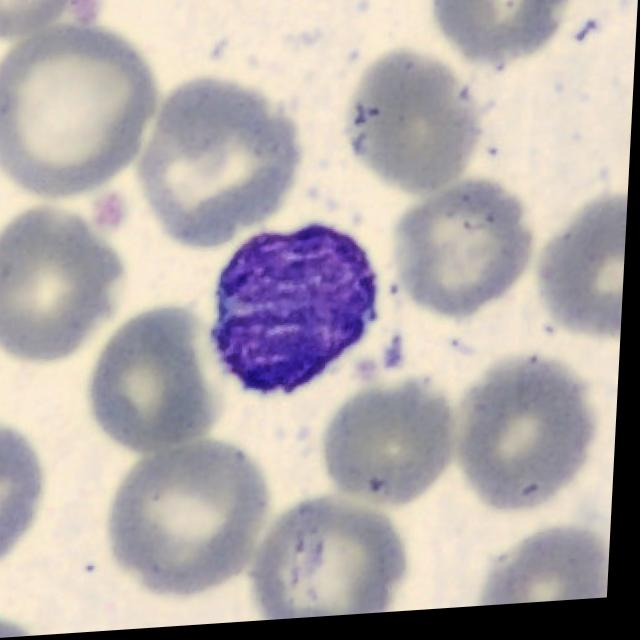Linfocito: (213, 229, 383, 400)
